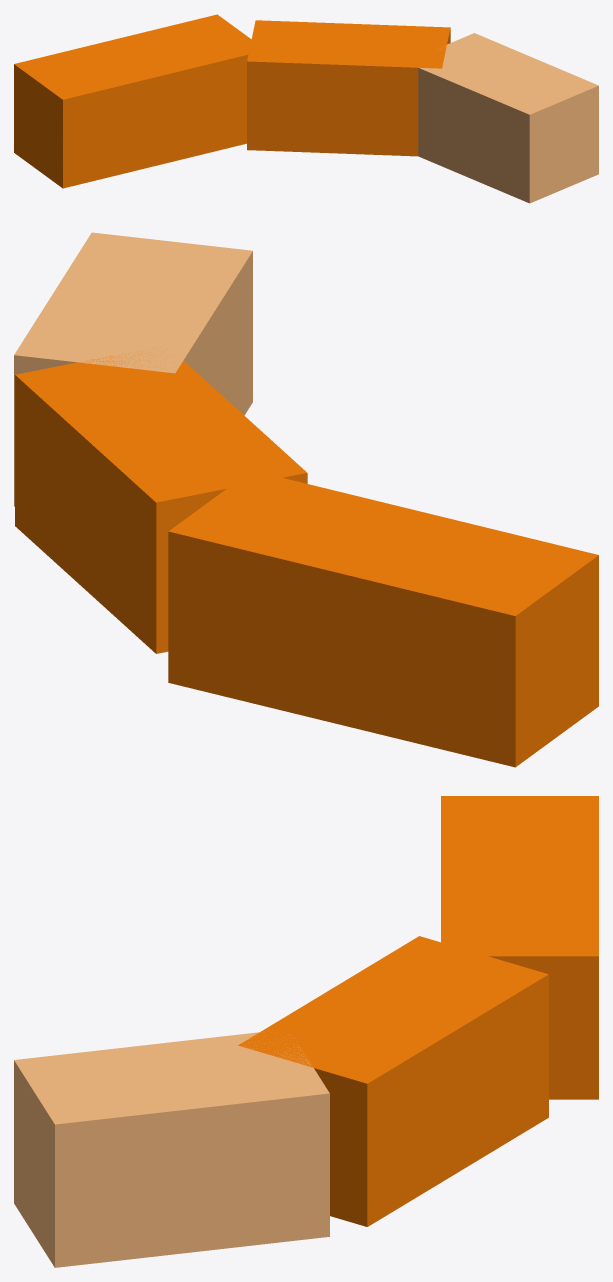
Rendered from tail.glb.
3 renders of one model, top to bottom at view 1: azimuth 30°, elevation 25°; view 2: azimuth 150°, elevation 25°; view 3: azimuth 270°, elevation 25°, orthographic. The views are drawn at different scales.
Visible parts, largest first — view 1: T0; view 2: T0; view 3: T0.
Part boxes in pixels (box(x1,y1,x2,y2)): T0: box(14, 14, 598, 203); T0: box(14, 232, 598, 767); T0: box(14, 796, 598, 1267).
Bounding box in the file's own units: 0.2458 × 0.05 × 0.1849.
